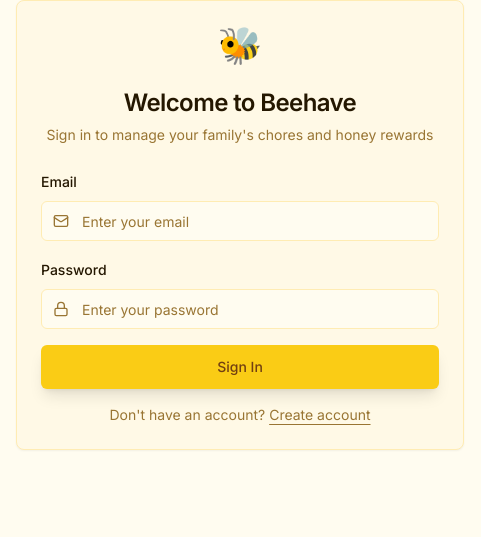
Scenario: LoginForm › displays error message when authentication fails
Type "test@example.com" into the field labelled "Email" at (240, 221), box [41,201,439,241]
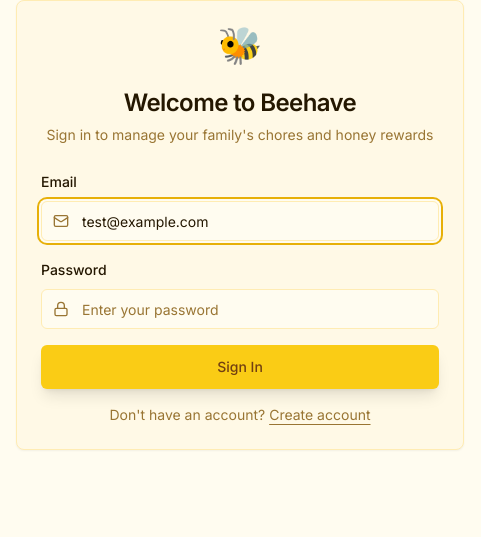
Type "wrongpassword" into the password field labelled "Password" at (240, 309), box [41,289,439,329]
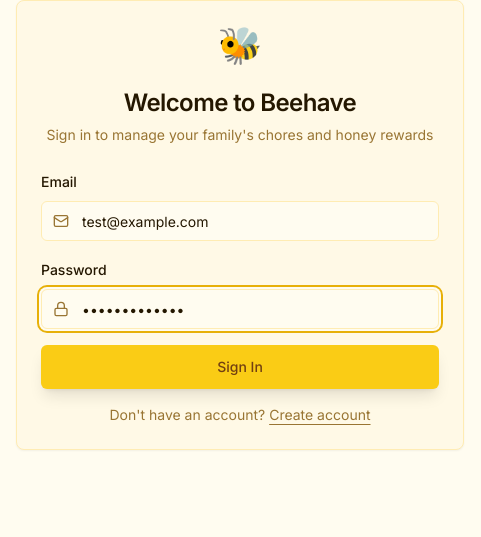
Click the button "Sign In" at (240, 367), box [41,345,439,389]
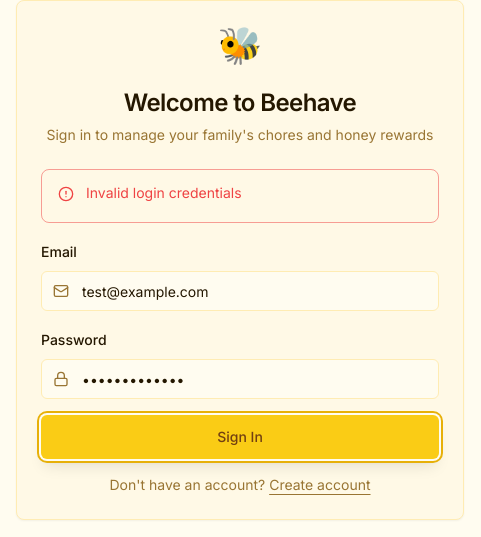
Now the text "Invalid login credentials" is shown, box [86,184,242,201]
